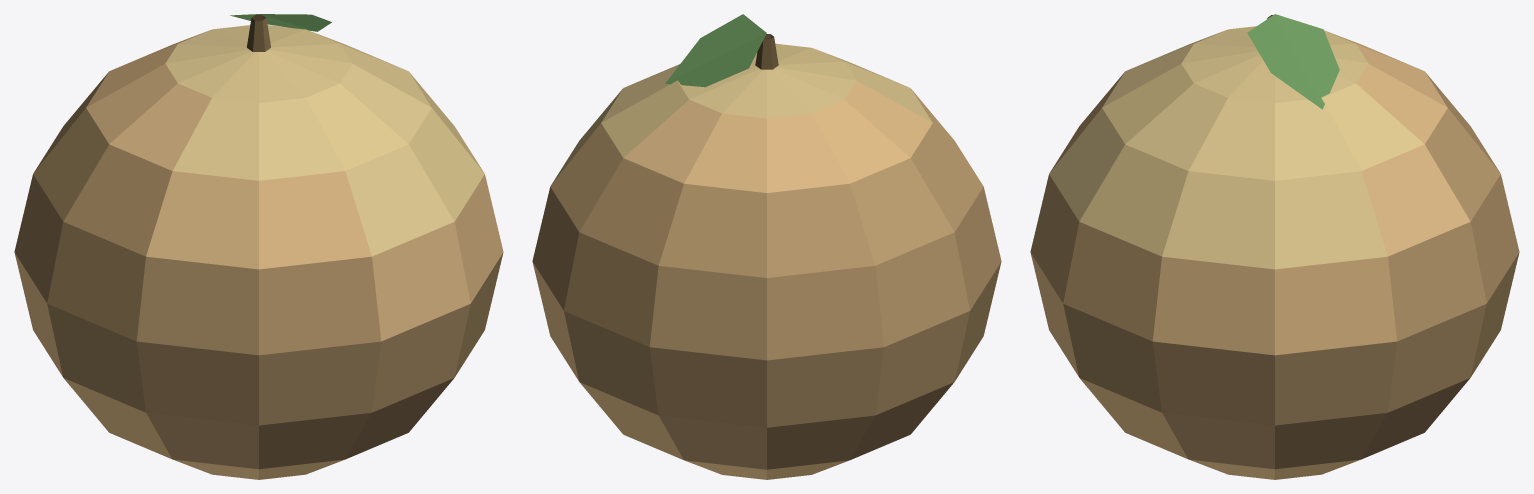
Rendered from Grapefruit.glb.
The picture shows the model from 3 angles, left to right: view 1: azimuth 30°, elevation 25°; view 2: azimuth 150°, elevation 25°; view 3: azimuth 270°, elevation 25°; orthographic projection. The views are drawn at different scales.
Parts seen in each view (by area): view 1: Grapefruit; view 2: Grapefruit; view 3: Grapefruit.
Part boxes in pixels (x1,y1,x2,y2): Grapefruit: (14, 14, 503, 479); Grapefruit: (532, 14, 1001, 479); Grapefruit: (1030, 14, 1519, 479).
Size of the model in its own units: 0.52 by 0.5004 by 0.52.
